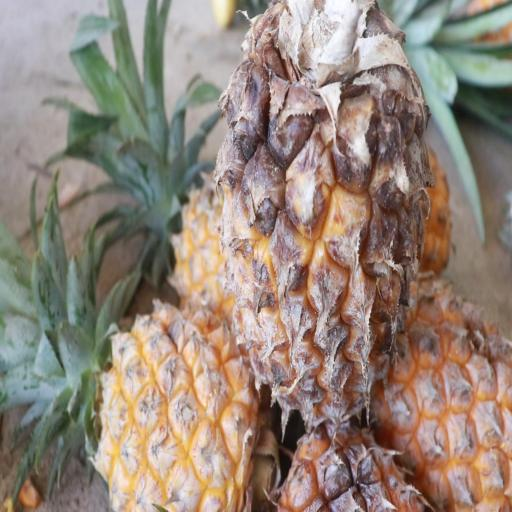Pineapple - v8 v1: (216, 0, 430, 440), (73, 214, 270, 512), (373, 270, 512, 507)
